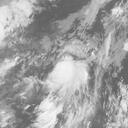cyclone: (45, 60, 89, 93)
